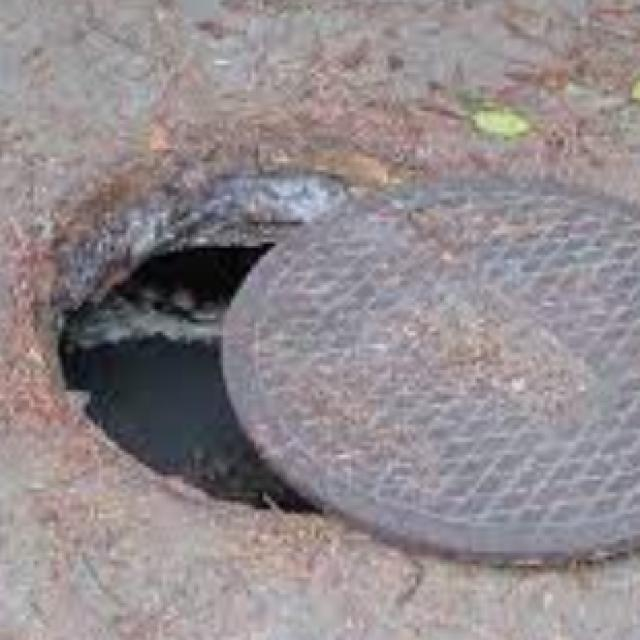Breeding Place: (48, 179, 370, 523)
